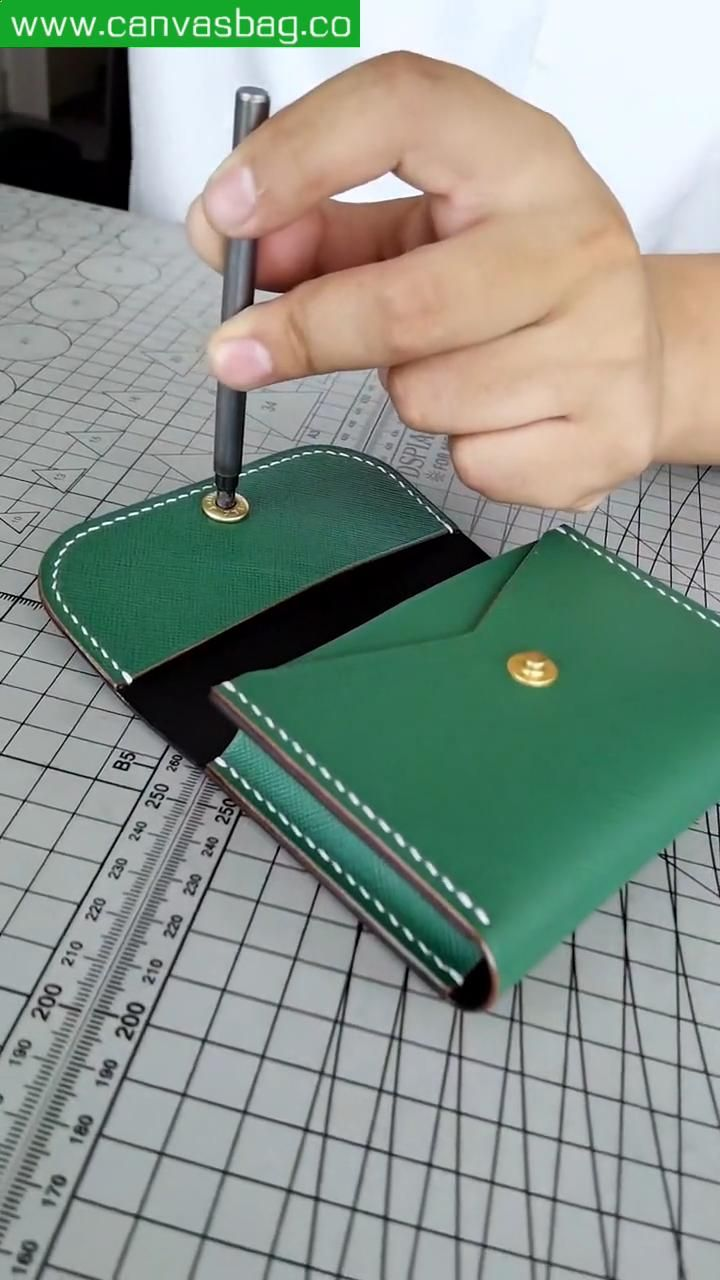cuero: (42, 447, 720, 1013)
